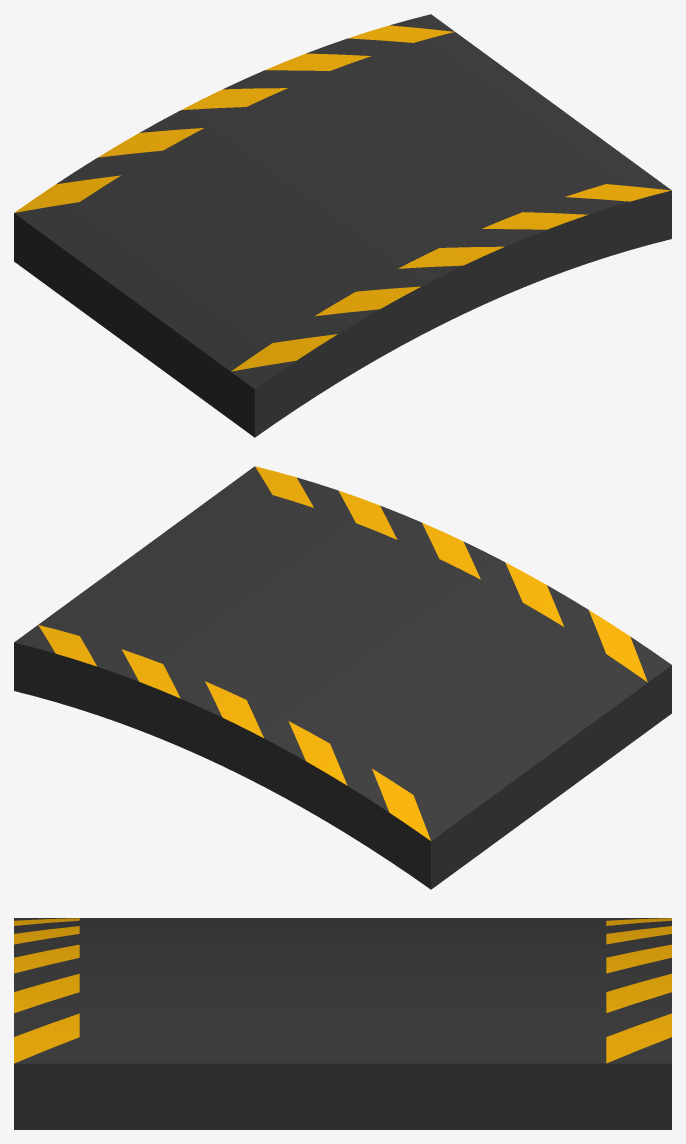
3 views of the same model, one above another, from view 1: azimuth 30°, elevation 25°; view 2: azimuth 150°, elevation 25°; view 3: azimuth 270°, elevation 25° (orthographic). The views are drawn at different scales.
Parts seen in each view (by area): view 1: e2; view 2: e2; view 3: e2.
Part boxes in pixels (x1,y1,x2,y2): e2: [14, 14, 671, 437]; e2: [14, 466, 671, 889]; e2: [14, 918, 671, 1129].
Size of the model in its own units: 9 by 3 by 9.
